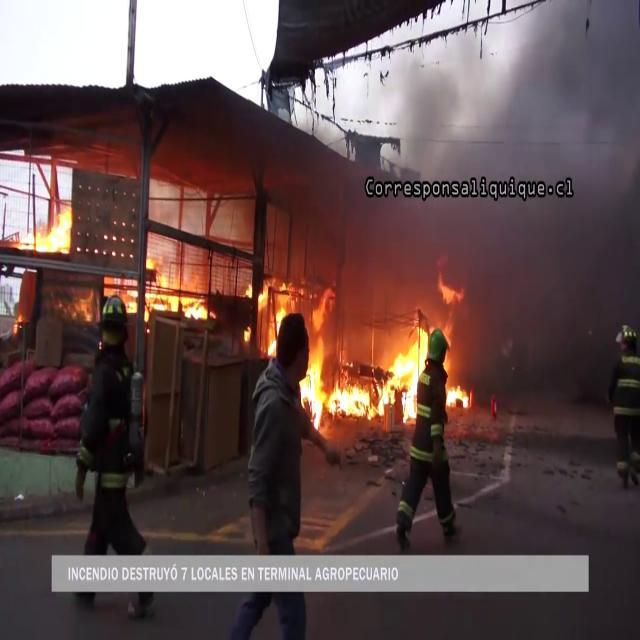Fire: (300, 286, 474, 428), (128, 256, 212, 324), (248, 274, 296, 360), (14, 200, 78, 258)
Smoke: (352, 2, 640, 328)
